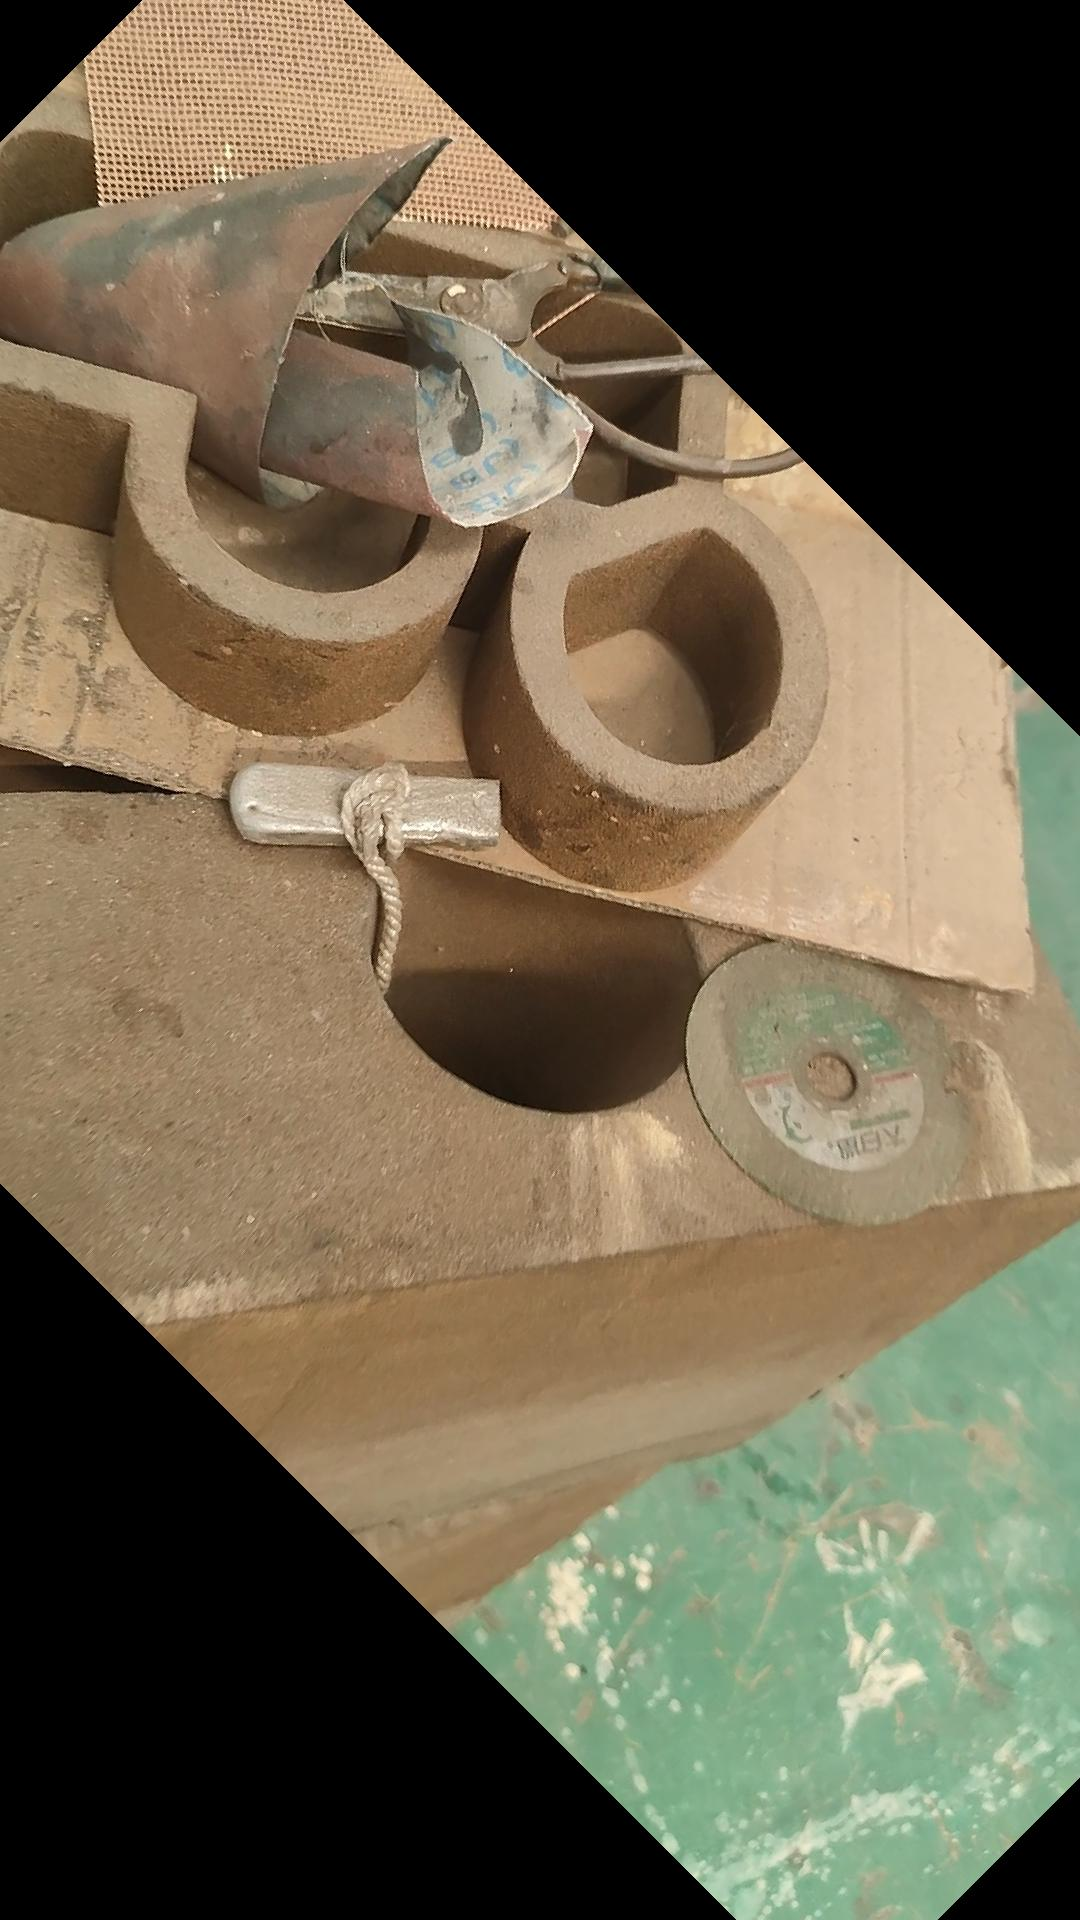pouring hole: (371, 843, 705, 1114)
